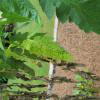Tomato Septoria leaf spot: (25, 35, 77, 60)
